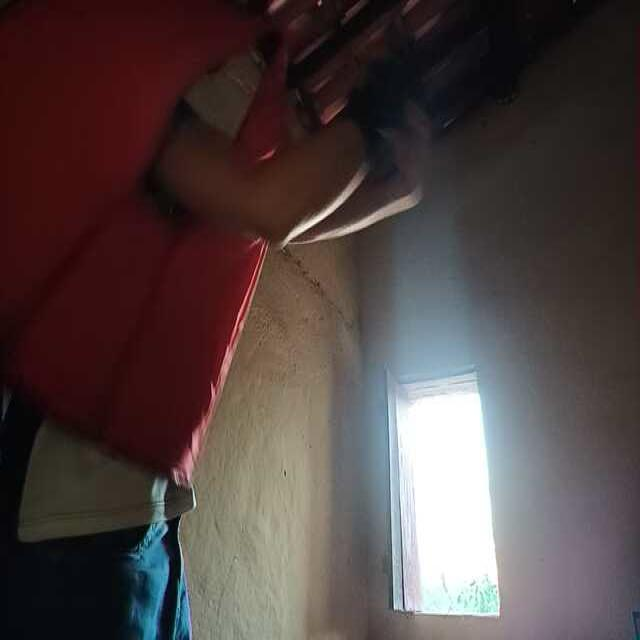colete: (0, 0, 309, 477)
pessoa: (10, 9, 262, 640)
